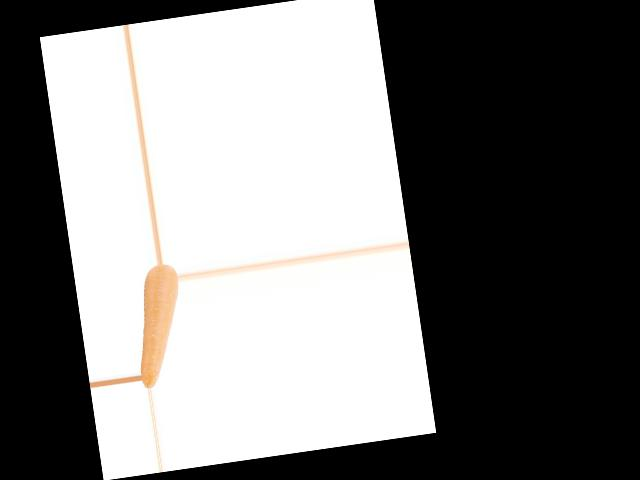carrot: (126, 262, 191, 387)
